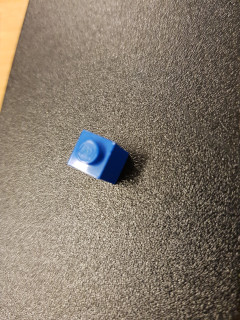1x1 blue: (67, 130, 130, 186)
